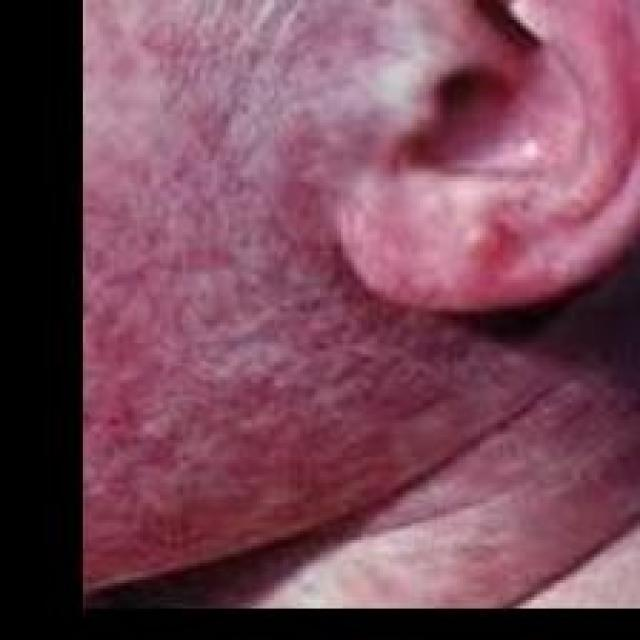others: (74, 0, 639, 611)
